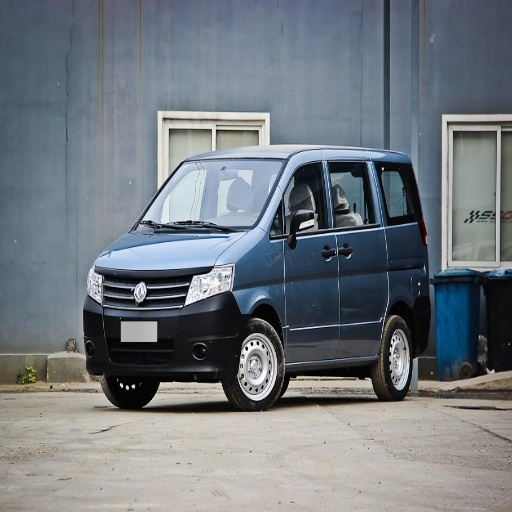front_bumper: (81, 267, 244, 380)
front_glass: (135, 162, 287, 233)
front_left_door: (272, 157, 349, 361)
